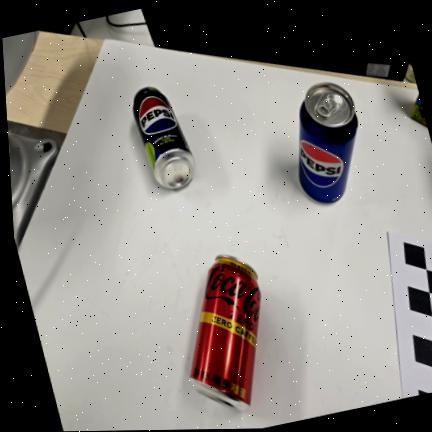can_coke_decaf: (191, 253, 261, 414)
can_pepsi: (299, 83, 359, 202)
can_pepsi_zero: (131, 88, 197, 191)
